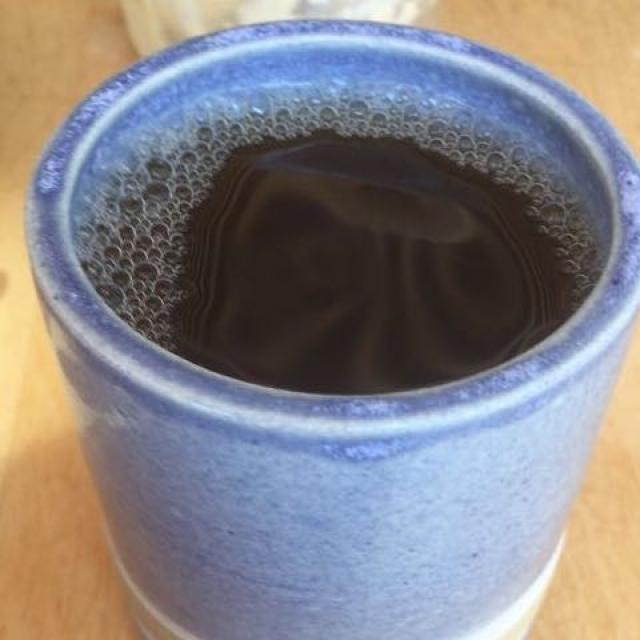tea: (113, 127, 593, 394)
